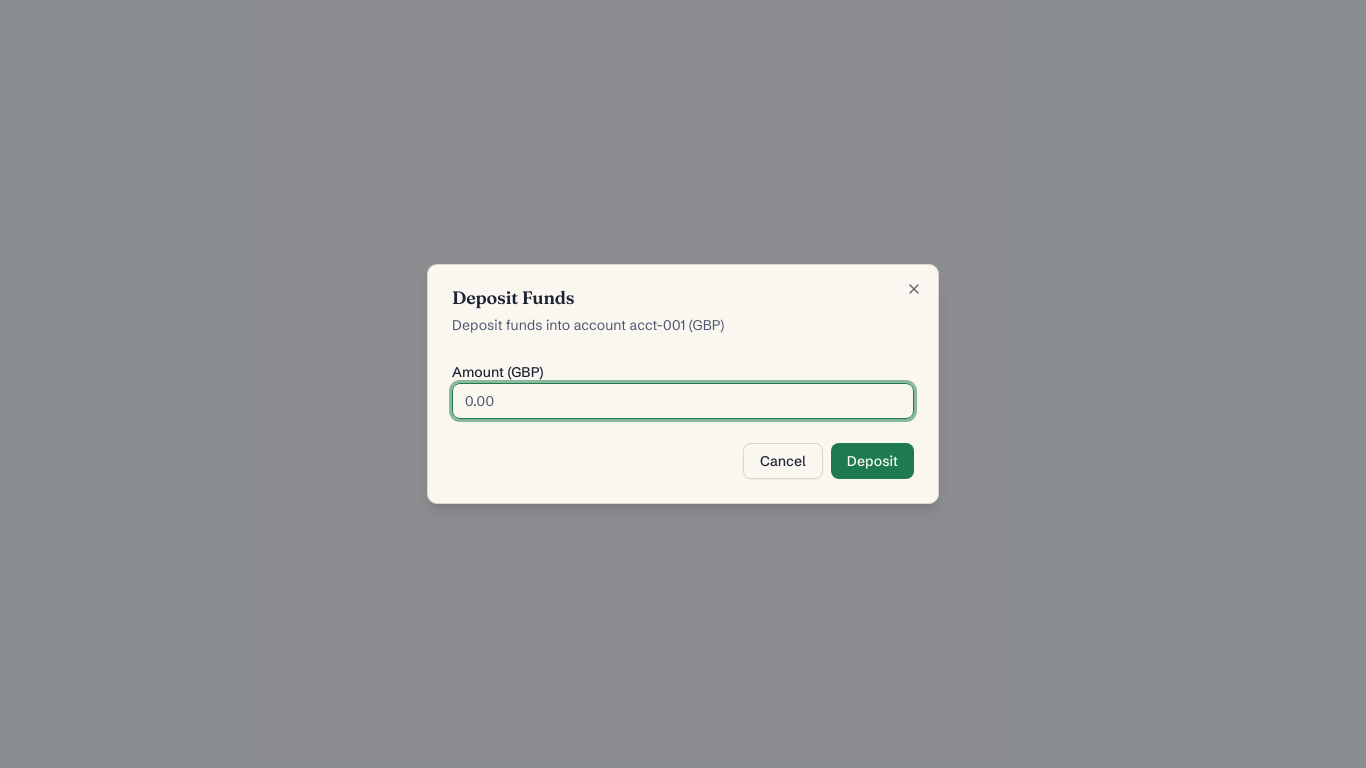
DepositDialog - validation › shows error when amount is zero
The width and height of the screenshot is (1366, 768).
Type "0" into the field labelled "Amount (GBP)" at (683, 401), box [452,383,914,419]
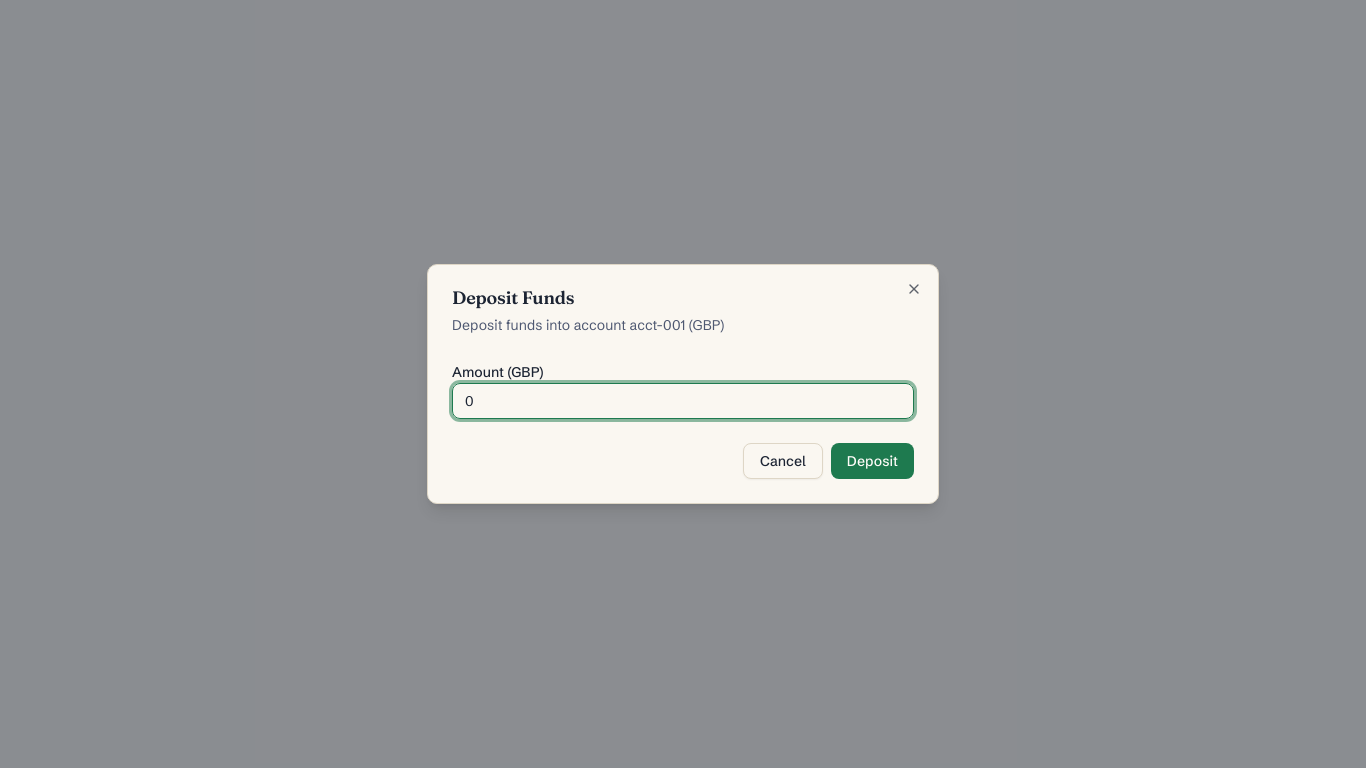
Click the button "Deposit" at (872, 461), box [831,443,914,479]
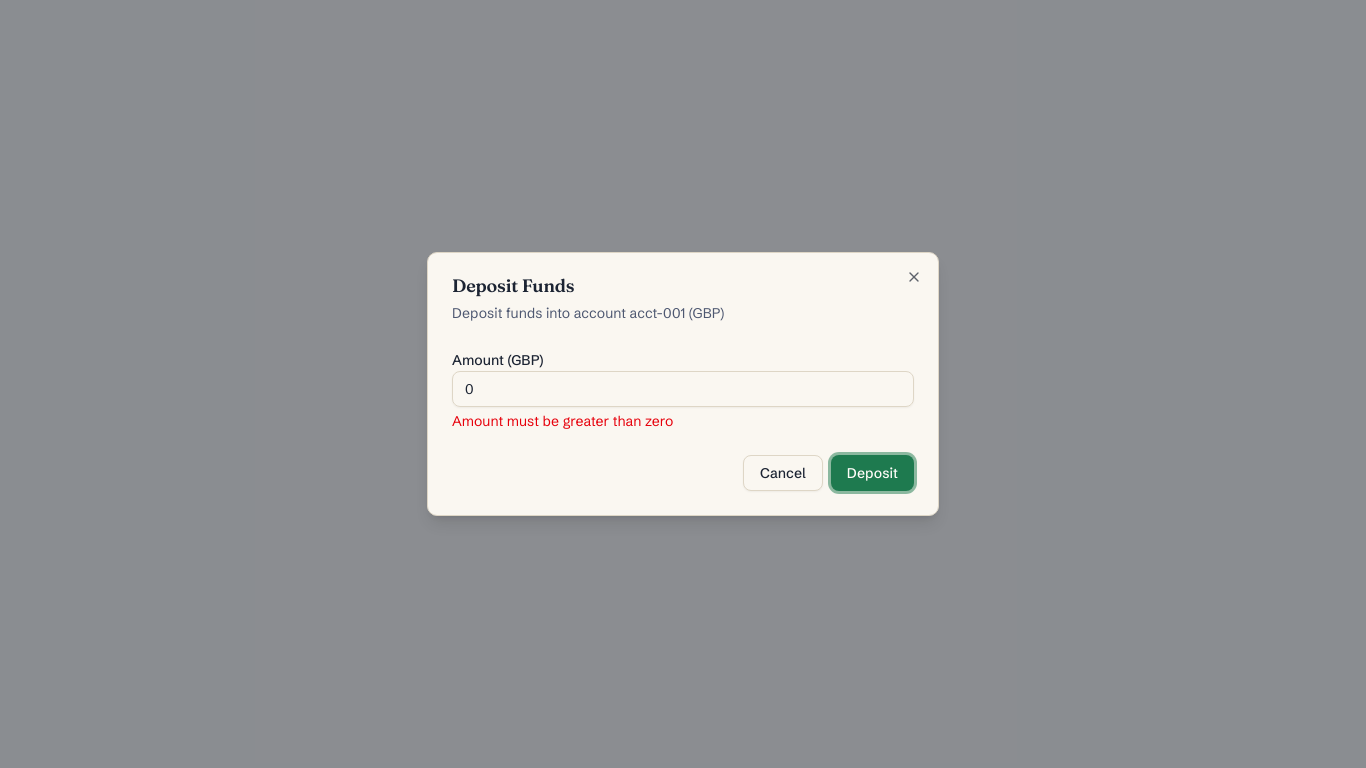
Expected: the text "Amount must be greater than zero" is shown, [452,412,673,430]
